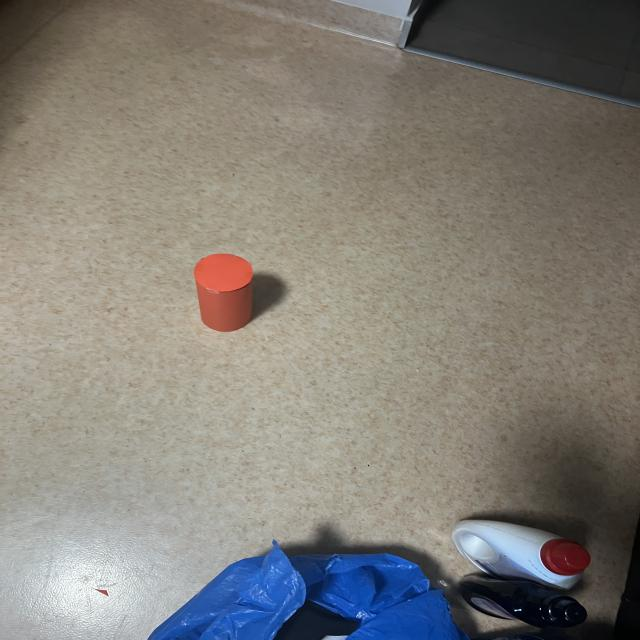przeszkoda: (194, 254, 253, 332)
